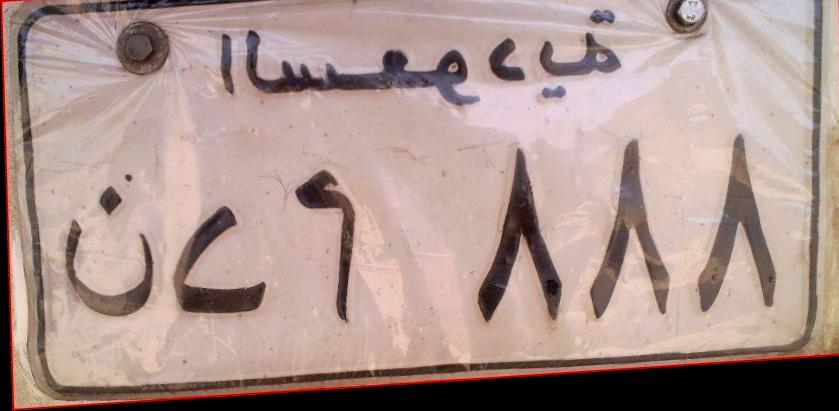License_Plate: (14, 0, 839, 402)
